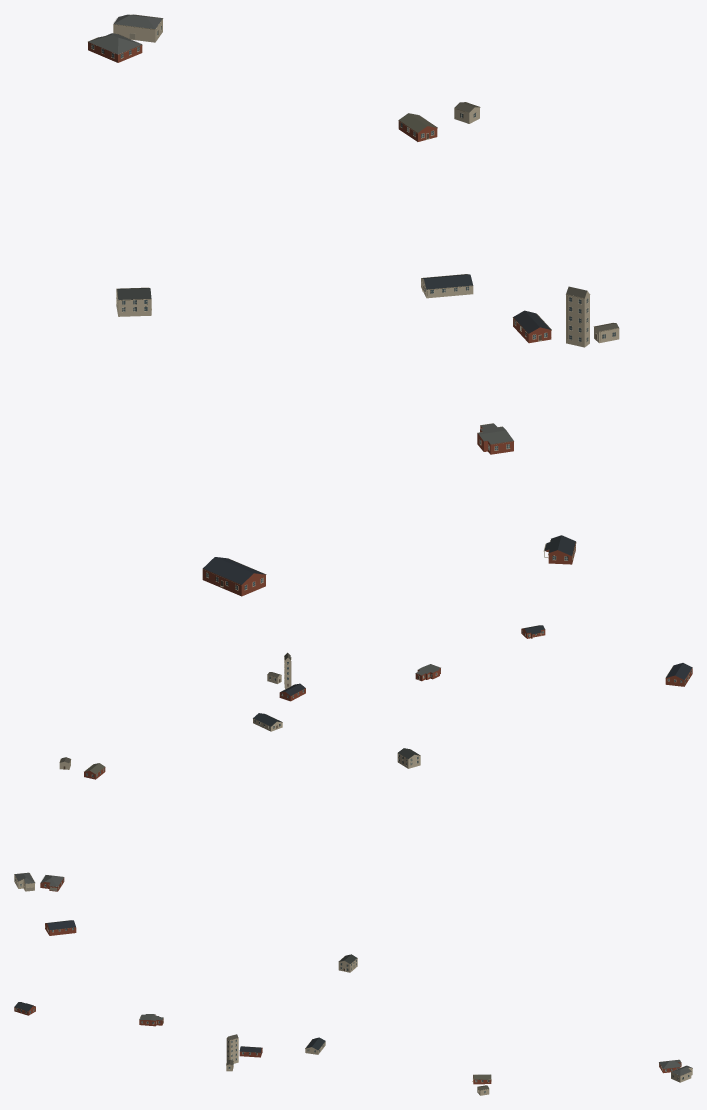
The picture shows the model from 3 angles, top to bottom: view 1: azimuth 30°, elevation 25°; view 2: azimuth 150°, elevation 25°; view 3: azimuth 270°, elevation 25°; orthographic projection. The views are drawn at different scales.
Visible parts, largest first — view 1: -1_16_638334909_2, -1_16_638334910_3; view 2: -1_16_638334909_2, -1_16_638334910_3; view 3: -1_16_638334909_2, -1_16_638334910_3.
Boxes of the visible parts, <box> form: -1_16_638334909_2: <box>88,14,619,596</box>; -1_16_638334910_3: <box>113,19,619,586</box>; -1_16_638334909_2: <box>14,625,692,891</box>; -1_16_638334910_3: <box>14,656,688,891</box>; -1_16_638334909_2: <box>14,920,692,1093</box>; -1_16_638334910_3: <box>163,958,692,1095</box>.
Bounding box in the file's own units: 295 × 32.36 × 505.
